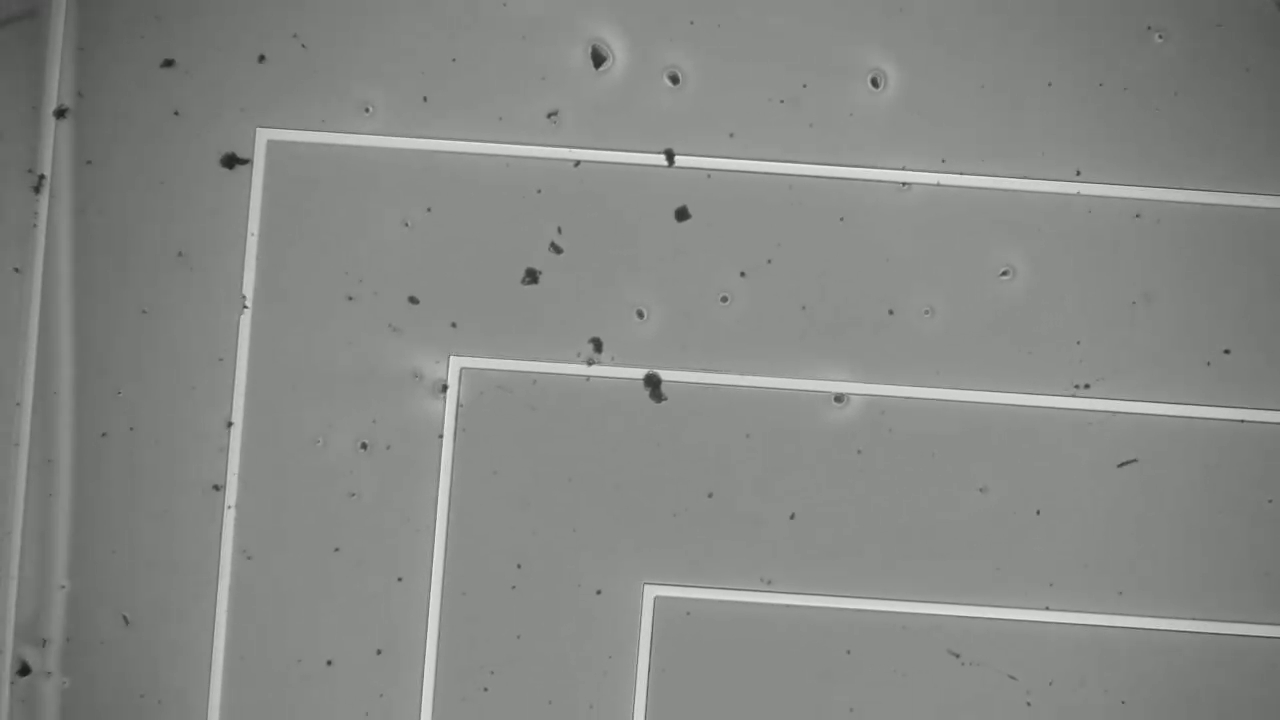edge_bite: (226, 283, 272, 329)
stains_enbedded: (640, 358, 674, 409), (656, 139, 686, 173)
